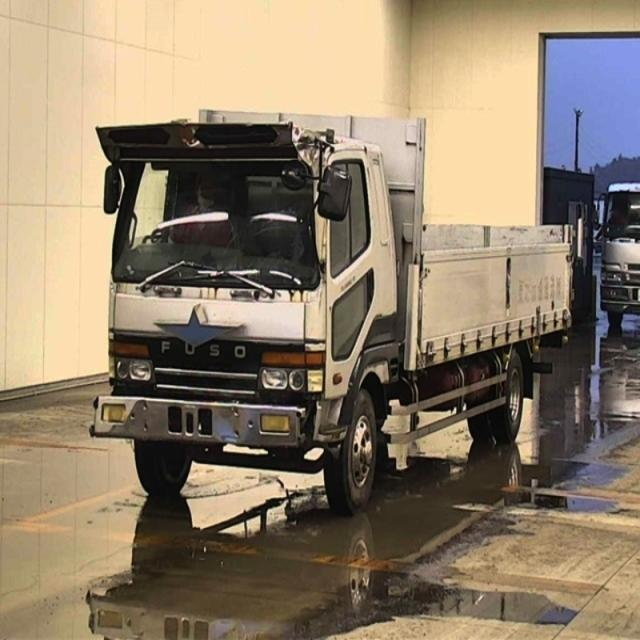truck: (95, 107, 580, 514)
